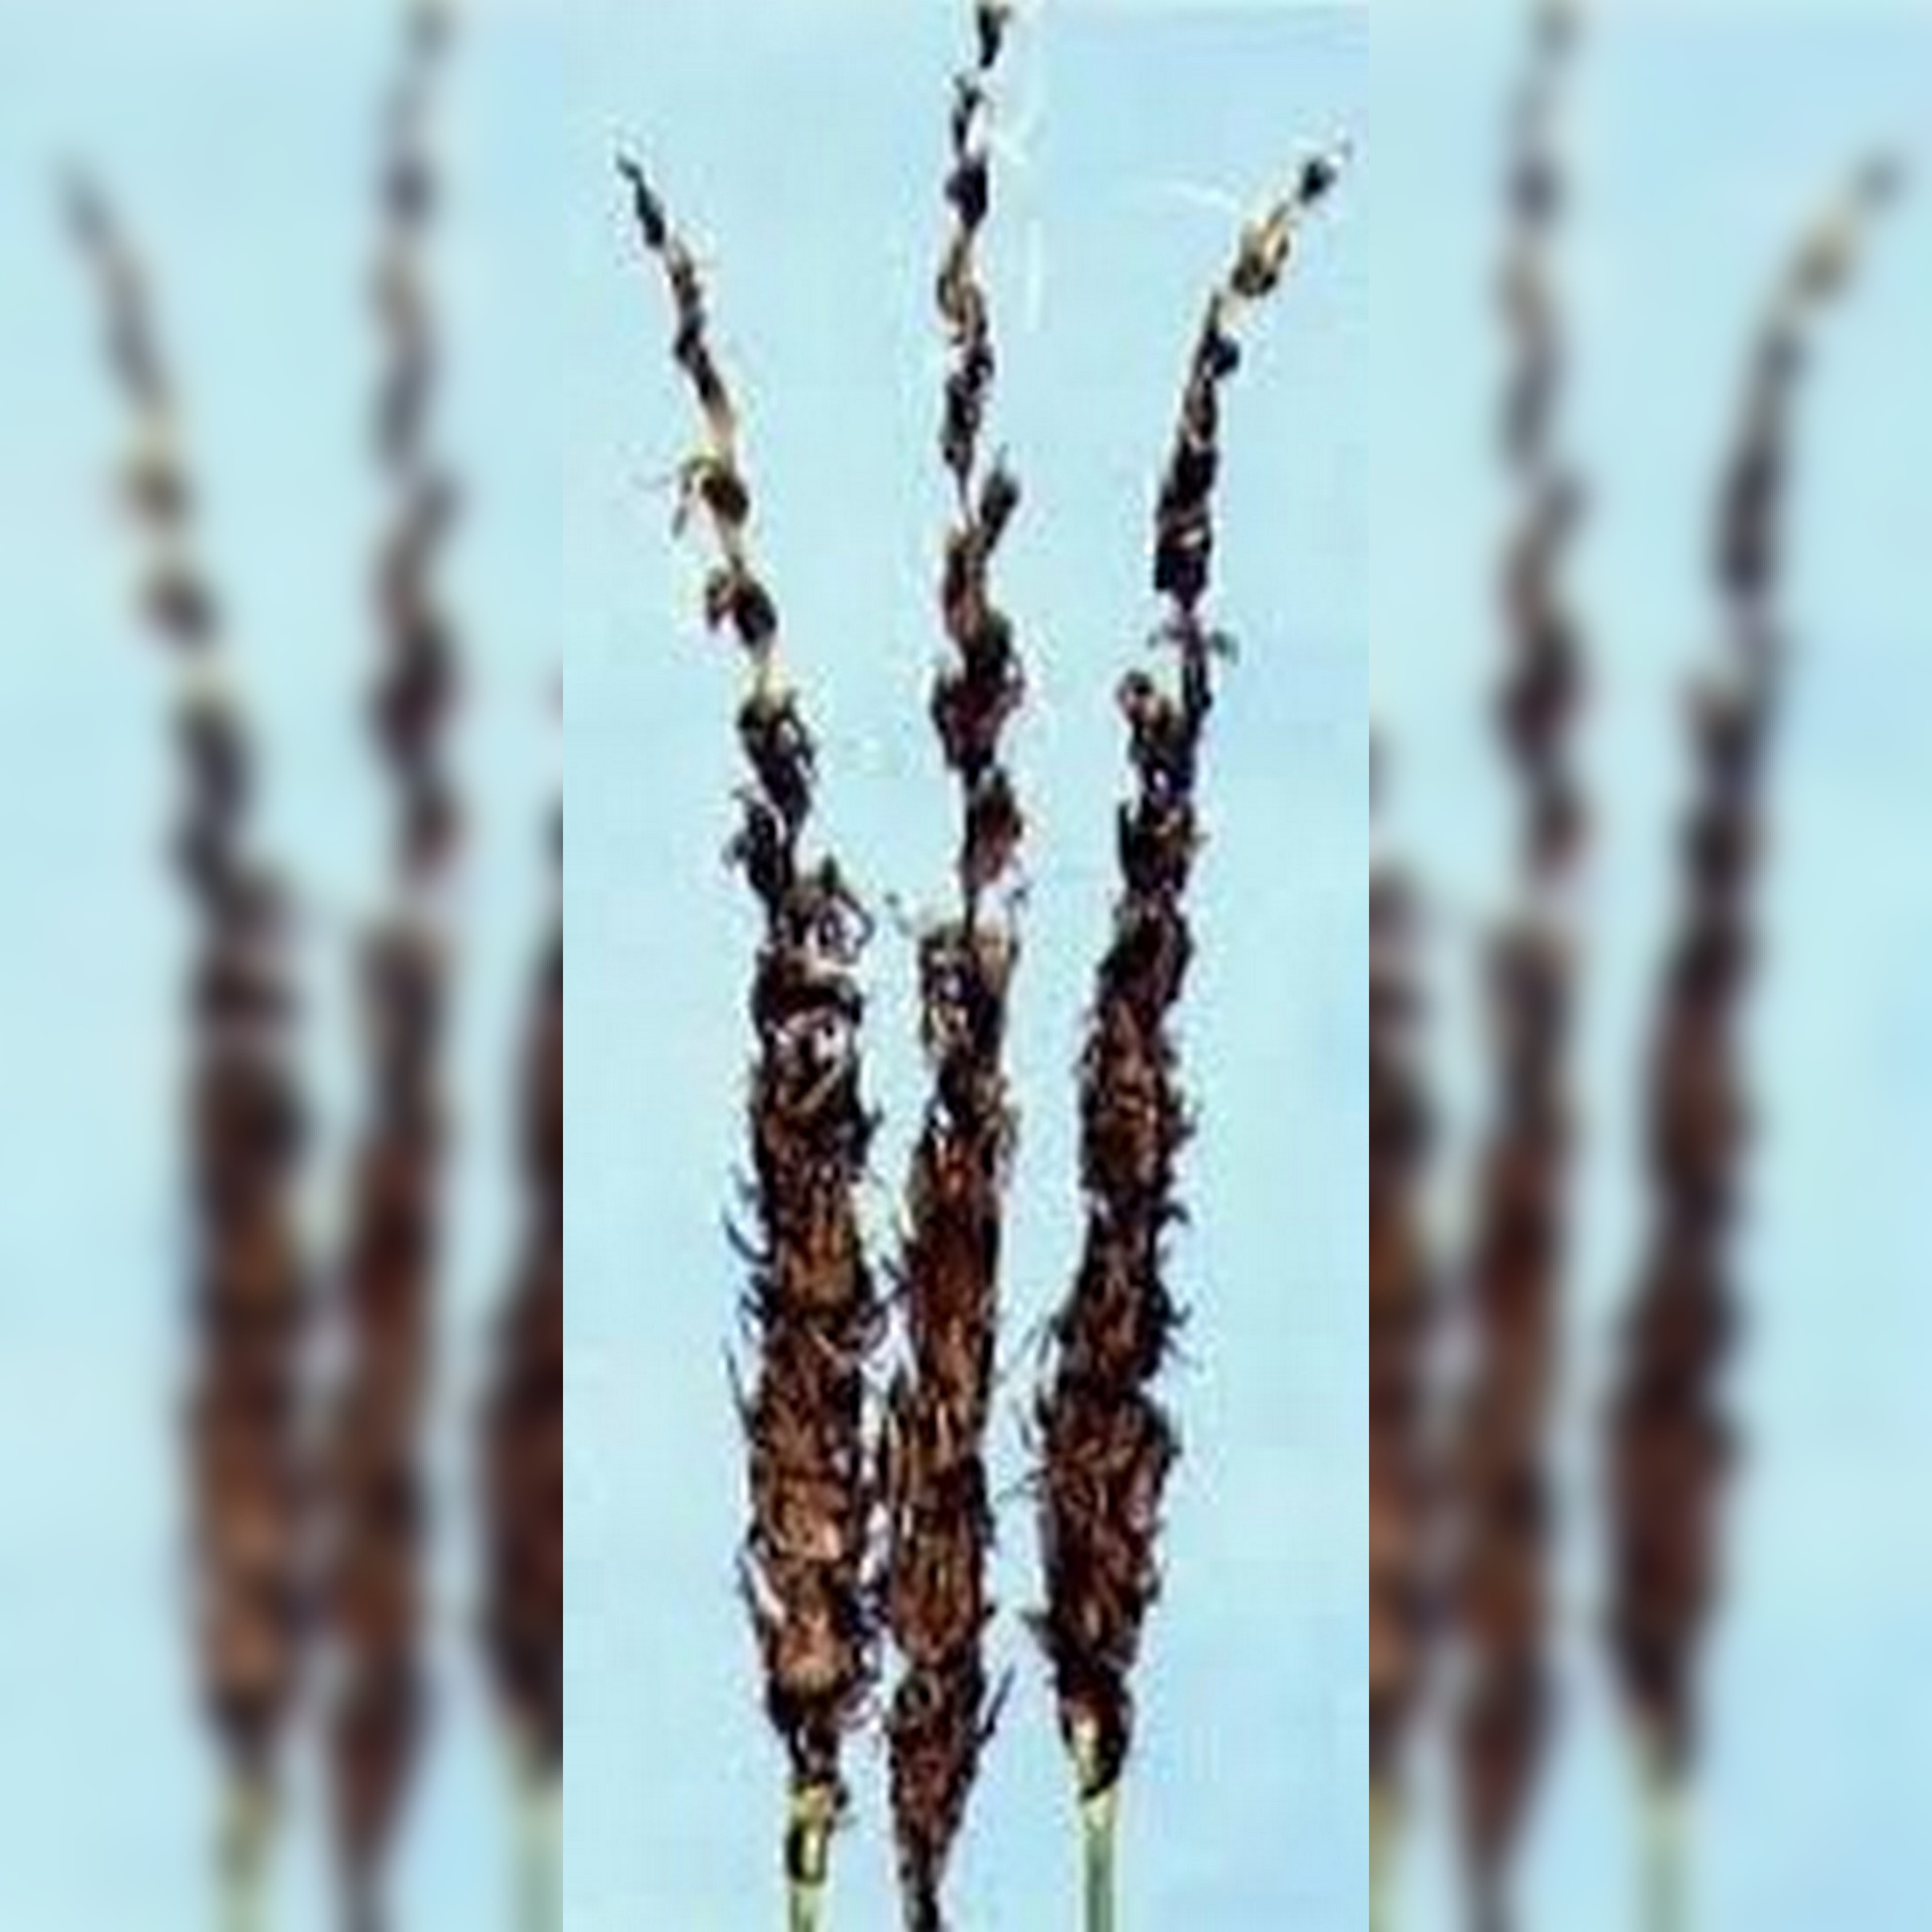Wheat Loose Smut: (610, 182, 1304, 1799)
